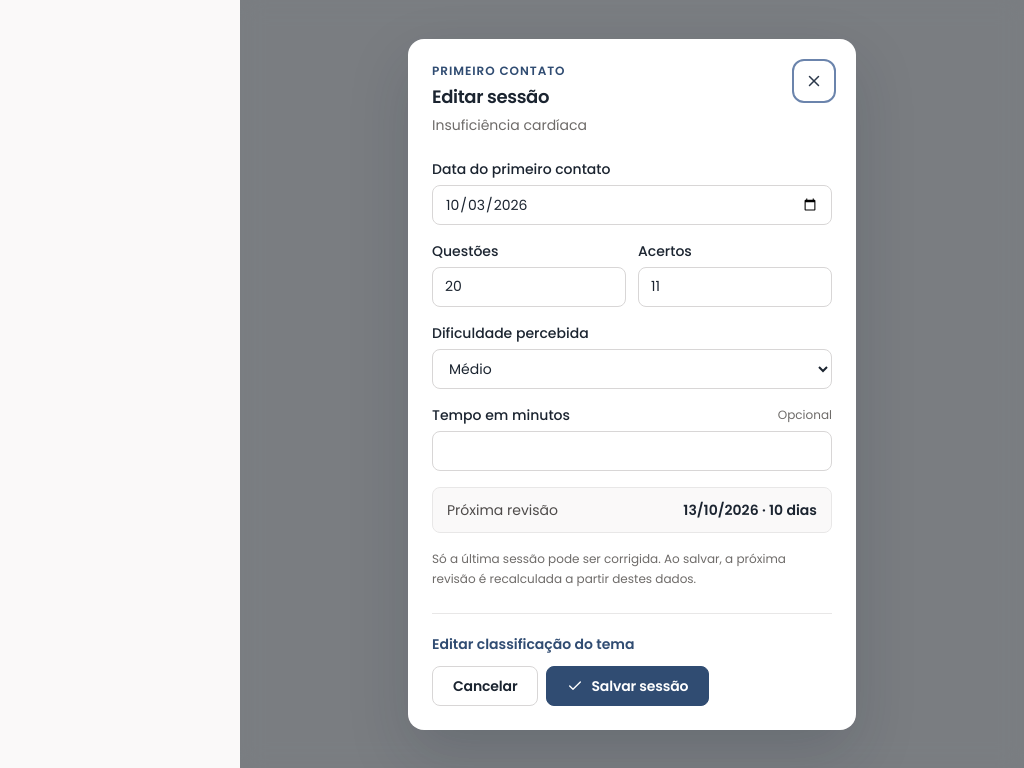
SessionEditModal › shows why a save failed and stays open
The image size is (1024, 768).
expect the number field labelled "Acertos" holds "11": met, box [638,266,832,306]
Click the button "Salvar sessão". click: [628, 686]
box: [546,666,709,706]
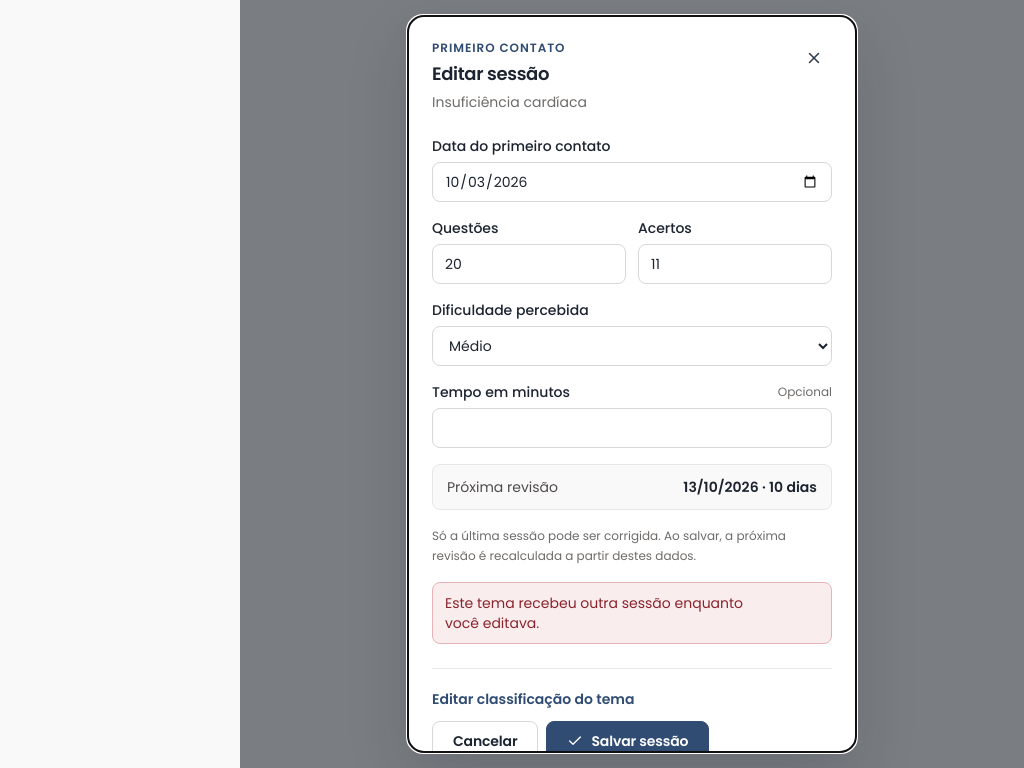
expect the text "Este tema recebeu outra sessão enquanto você editava." is shown: met, box [432,582,832,644]
